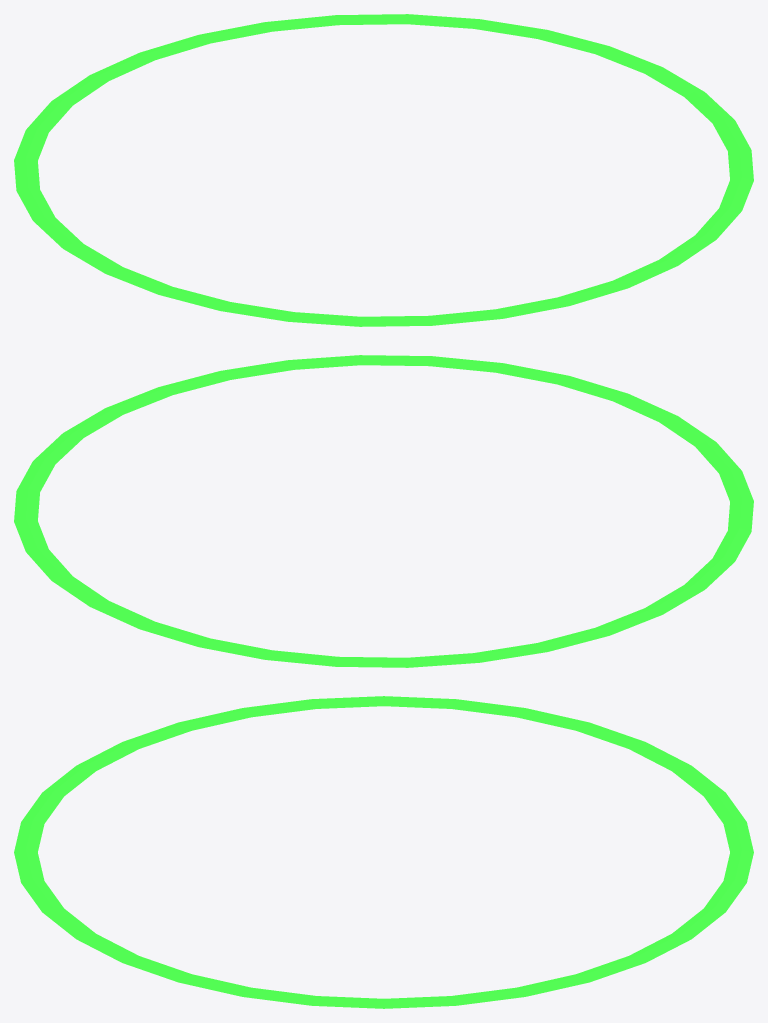
Rendered from selection_circle.glb.
3 renders of one model, top to bottom at view 1: azimuth 30°, elevation 25°; view 2: azimuth 150°, elevation 25°; view 3: azimuth 270°, elevation 25°, orthographic.
Visible parts, largest first — view 1: SelectionCircle; view 2: SelectionCircle; view 3: SelectionCircle.
Boxes of the visible parts, left/top/right/bottom form: SelectionCircle: left=14, top=14, right=753, bottom=326; SelectionCircle: left=14, top=355, right=753, bottom=667; SelectionCircle: left=14, top=696, right=753, bottom=1008.
Size of the model in its own units: 1.24 by 0.012 by 1.24.
